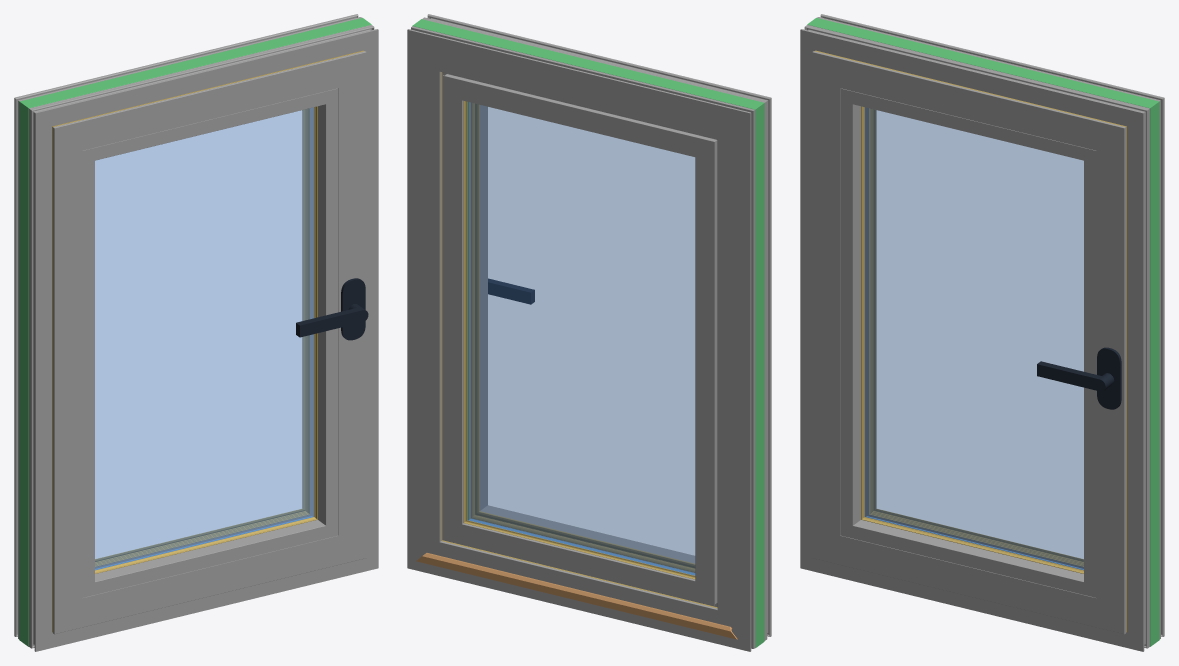
File: window-profile.glb
3 renders of one model, left to right at view 1: azimuth 30°, elevation 25°; view 2: azimuth 150°, elevation 25°; view 3: azimuth 330°, elevation 25°, orthographic.
Visible parts, largest first — view 1: ARMesh67, ARMesh50, ARMesh51, ARMesh13, ARMesh49, ARMesh37, ARMesh59, ARMesh12, ARMesh14, ARMesh36, ARMesh16, ARMesh44 (+13 smaller); view 2: ARMesh67, ARMesh10, ARMesh11, ARMesh9, ARMesh47, ARMesh48, ARMesh21, ARMesh46, ARMesh58, ARMesh16, ARMesh13, ARMesh25 (+13 smaller); view 3: ARMesh67, ARMesh50, ARMesh51, ARMesh14, ARMesh36, ARMesh49, ARMesh59, ARMesh12, ARMesh13, ARMesh37, ARMesh17, ARMesh44 (+13 smaller).
Part boxes in pixels (x1,y1,x2,y2): ARMesh67: (95,107,313,569); ARMesh50: (53,127,82,634); ARMesh51: (338,53,366,557); ARMesh13: (29,109,51,651); ARMesh49: (53,51,366,150); ARMesh37: (318,89,338,535); ARMesh59: (55,535,365,633); ARMesh12: (29,25,378,126); ARMesh14: (363,27,378,567); ARMesh36: (82,151,94,597); ARMesh16: (19,101,28,646); ARMesh44: (83,520,337,597); ARMesh67: (467,102,694,575); ARMesh10: (717,110,755,651); ARMesh11: (407,28,441,567); ARMesh9: (407,26,754,139); ARMesh47: (695,140,717,605); ARMesh48: (442,72,463,539); ARMesh21: (407,541,752,651); ARMesh46: (443,73,717,157); ARMesh58: (443,523,717,607); ARMesh16: (755,103,764,647); ARMesh13: (764,98,771,640); ARMesh25: (416,553,737,639); ARMesh67: (865,107,1083,569); ARMesh50: (812,53,840,557); ARMesh51: (1096,127,1125,634); ARMesh14: (1127,109,1149,651); ARMesh36: (840,89,860,535); ARMesh49: (812,51,1125,150); ARMesh59: (813,535,1123,633); ARMesh12: (800,25,1149,126); ARMesh13: (800,27,815,567); ARMesh37: (1084,151,1096,597); ARMesh17: (1150,101,1159,646); ARMesh44: (841,520,1095,597).
Bounding box in the file's own units: 0.6 × 0.9 × 0.1135.
